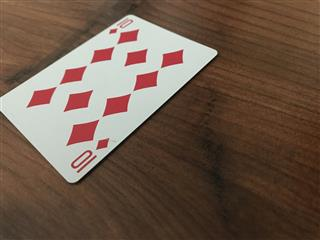TenOfDiamonds: (1, 12, 218, 184)
